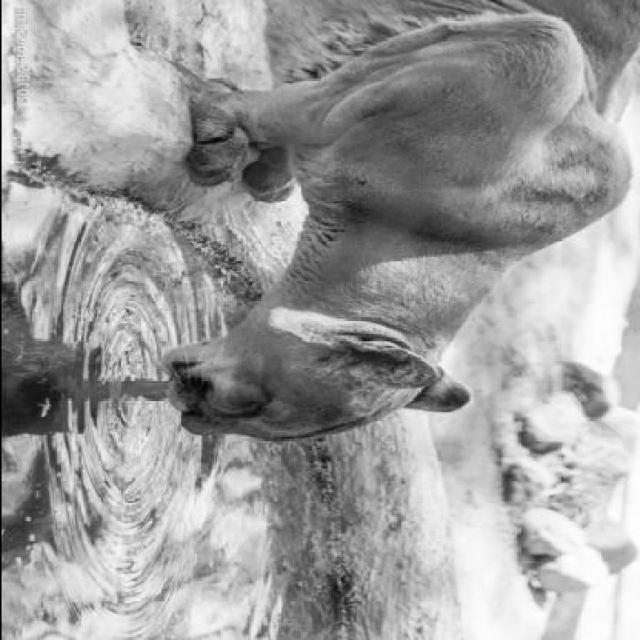Lion: (141, 0, 638, 478)
